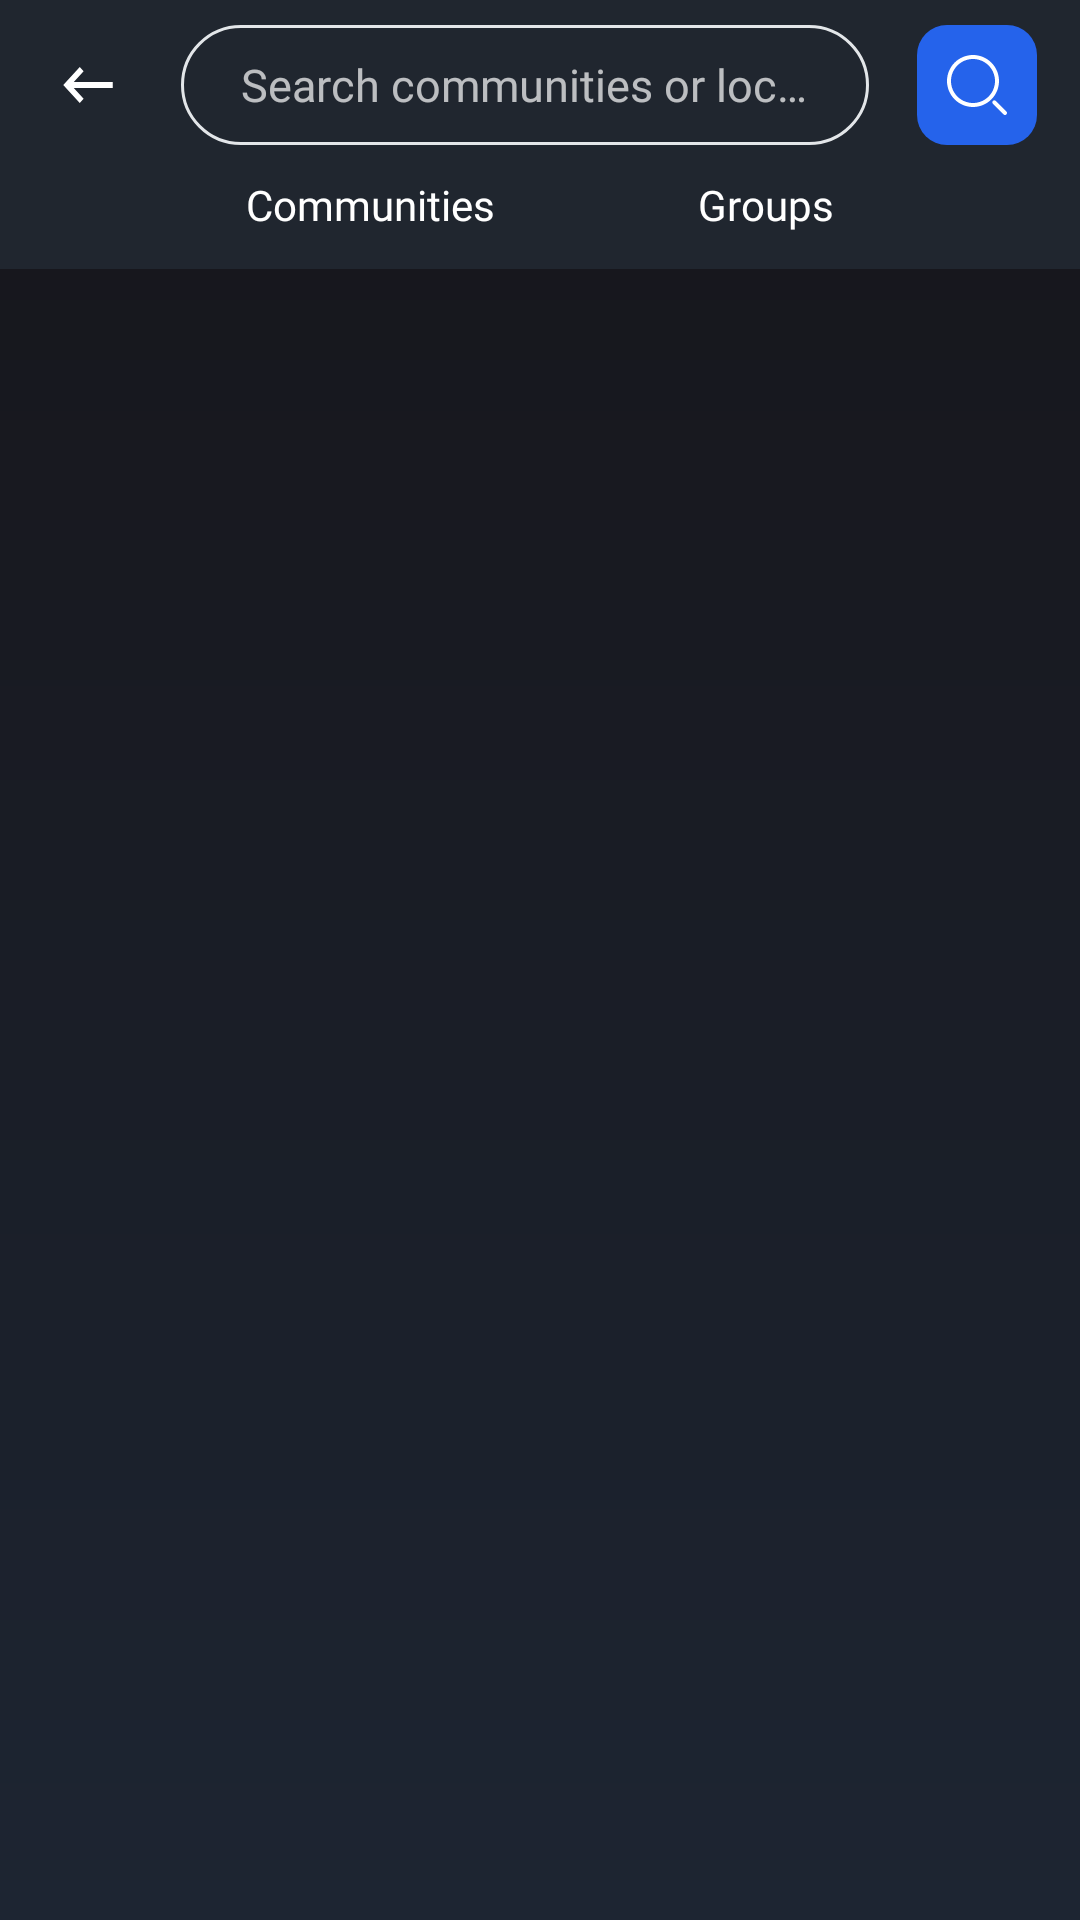

Locate icon controls on the screen. Image size 1080*1920, boxes as (x1, y1, x2, y2).
Back: (63, 67, 113, 103)
